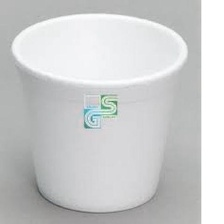paper_cup: (3, 7, 192, 215)
